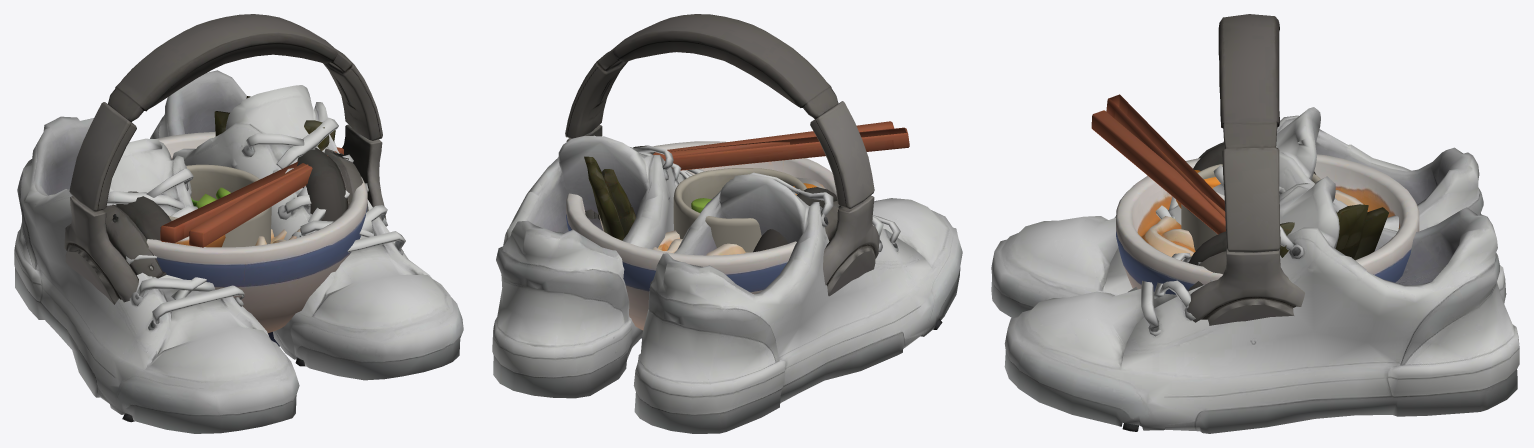
The model's file is props_tripo.glb.
3 renders of one model, left to right at view 1: azimuth 30°, elevation 25°; view 2: azimuth 150°, elevation 25°; view 3: azimuth 270°, elevation 25°, orthographic. The views are drawn at different scales.
Visible parts, largest first — view 1: tripo_node_62e8af56-3302-4a6a-9fe4-d4af8bd5d821, tripo_node_6a2cac63-a839-4d0c-8e0f-53c67e641321, tripo_node_5872260f-8308-4f71-b461-da00a9bdd2bf, tripo_node_277633c0-2bfe-4b38-ae60-0bcaa9445a0f; view 2: tripo_node_62e8af56-3302-4a6a-9fe4-d4af8bd5d821, tripo_node_6a2cac63-a839-4d0c-8e0f-53c67e641321, tripo_node_5872260f-8308-4f71-b461-da00a9bdd2bf, tripo_node_277633c0-2bfe-4b38-ae60-0bcaa9445a0f; view 3: tripo_node_62e8af56-3302-4a6a-9fe4-d4af8bd5d821, tripo_node_6a2cac63-a839-4d0c-8e0f-53c67e641321, tripo_node_5872260f-8308-4f71-b461-da00a9bdd2bf, tripo_node_277633c0-2bfe-4b38-ae60-0bcaa9445a0f.
Boxes of the visible parts, x1,y1,x2,y2 form: tripo_node_62e8af56-3302-4a6a-9fe4-d4af8bd5d821: (14,70,463,433); tripo_node_6a2cac63-a839-4d0c-8e0f-53c67e641321: (64,14,386,304); tripo_node_5872260f-8308-4f71-b461-da00a9bdd2bf: (146,96,367,346); tripo_node_277633c0-2bfe-4b38-ae60-0bcaa9445a0f: (168,164,271,247); tripo_node_62e8af56-3302-4a6a-9fe4-d4af8bd5d821: (492,135,962,433); tripo_node_6a2cac63-a839-4d0c-8e0f-53c67e641321: (565,14,879,296); tripo_node_5872260f-8308-4f71-b461-da00a9bdd2bf: (566,121,909,338); tripo_node_277633c0-2bfe-4b38-ae60-0bcaa9445a0f: (673,168,806,252); tripo_node_62e8af56-3302-4a6a-9fe4-d4af8bd5d821: (991,107,1519,433); tripo_node_6a2cac63-a839-4d0c-8e0f-53c67e641321: (1187,14,1315,325); tripo_node_5872260f-8308-4f71-b461-da00a9bdd2bf: (1091,94,1419,294); tripo_node_277633c0-2bfe-4b38-ae60-0bcaa9445a0f: (1181,164,1320,250).
Size of the model in its own units: 0.2185 by 0.2 by 0.29.
Materials: 4 (4 with a texture image).
